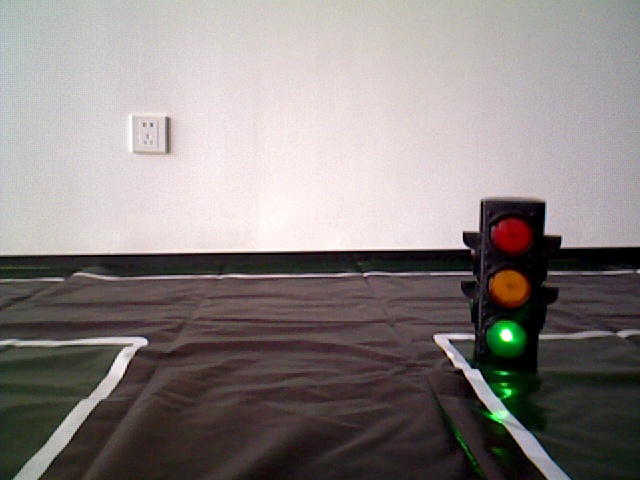green: (479, 204, 536, 359)
